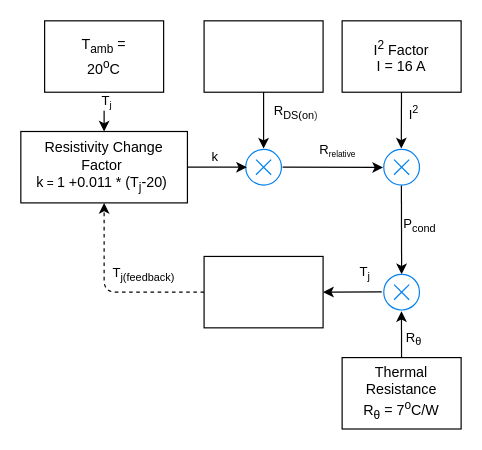
This 482x450 diagram has some shape labels left out. The shapes that lost their labels are listed below. From the top down, each one's centre as x and y in pixels, then its label:
At [263,56]: "R DS(on) 25 mΩ".
At [263,291]: "Feedback Junction Temperature".
